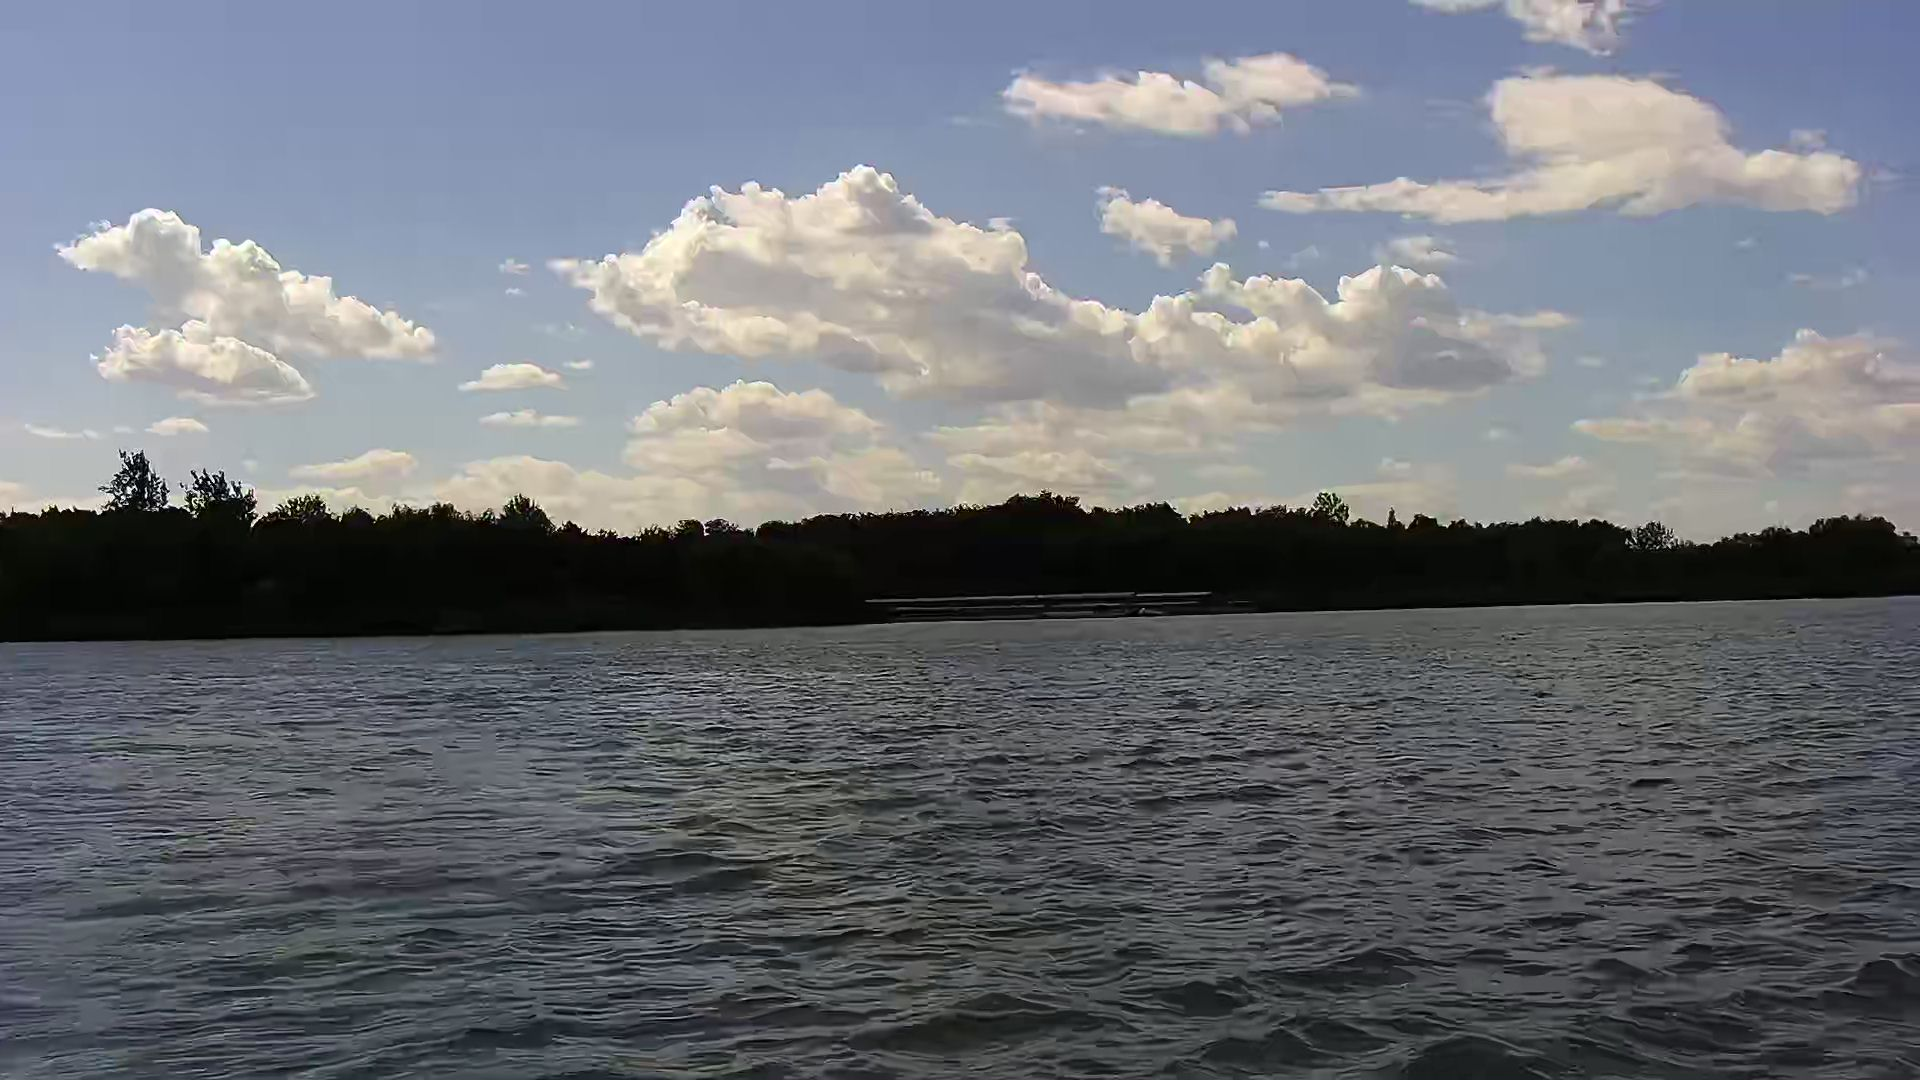bridge: (866, 596, 1215, 617)
